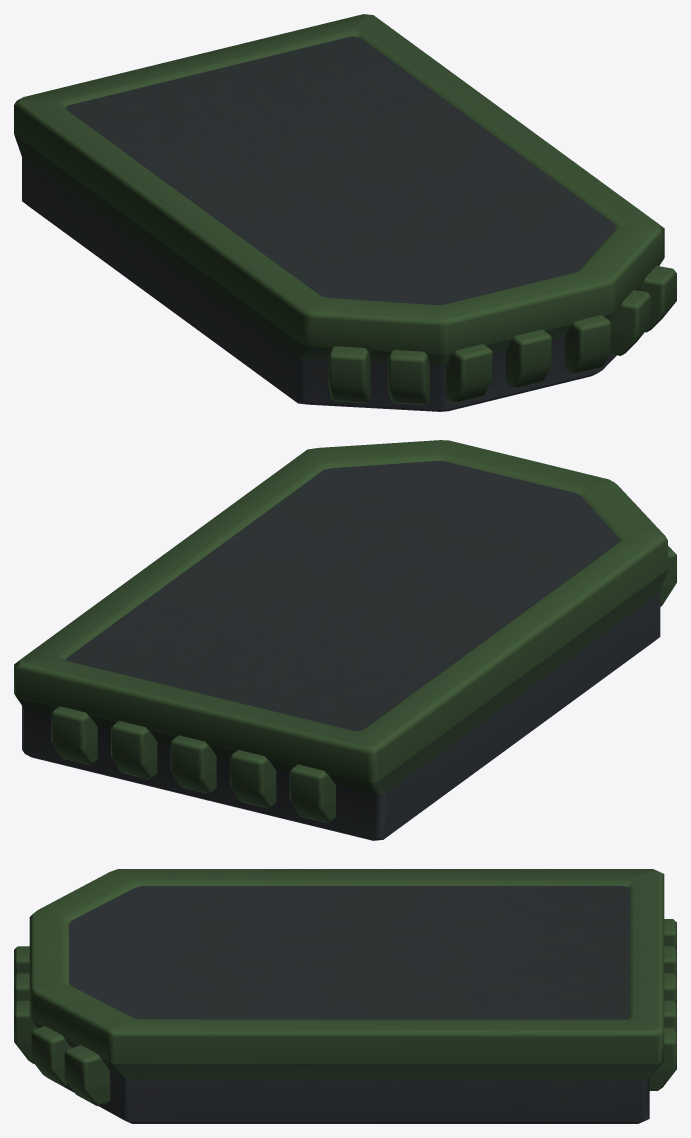
Rendered from appartment_type4_roof_type2_flat_brown.fbx.
3 renders of one model, top to bottom at view 1: azimuth 30°, elevation 25°; view 2: azimuth 150°, elevation 25°; view 3: azimuth 270°, elevation 25°, orthographic. The views are drawn at different scales.
Parts seen in each view (by area): view 1: appartment_type4_roof_type2_flat_brown; view 2: appartment_type4_roof_type2_flat_brown; view 3: appartment_type4_roof_type2_flat_brown.
Part boxes in pixels (x1,y1,x2,y2): appartment_type4_roof_type2_flat_brown: (14, 14, 676, 411); appartment_type4_roof_type2_flat_brown: (14, 440, 676, 840); appartment_type4_roof_type2_flat_brown: (14, 869, 676, 1123).
Size of the model in its own units: 610 by 160 by 1032.
